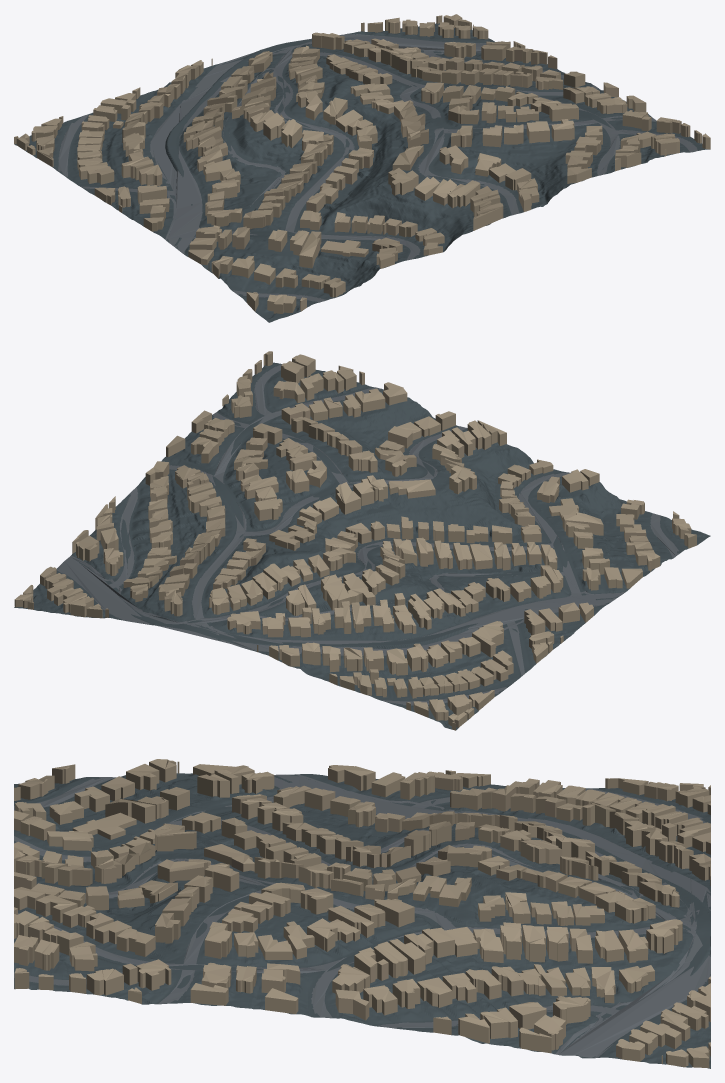
File: epsg26910-1425-10875.lod0.glb
The picture shows the model from 3 angles, top to bottom: view 1: azimuth 30°, elevation 25°; view 2: azimuth 150°, elevation 25°; view 3: azimuth 270°, elevation 25°; orthographic projection. The views are drawn at different scales.
Visible parts, largest first — view 1: epsg26910-1425-10875-lod0; view 2: epsg26910-1425-10875-lod0; view 3: epsg26910-1425-10875-lod0.
Boxes of the visible parts, box(x1,y1,x2,y2) form: epsg26910-1425-10875-lod0: box(14, 14, 710, 322); epsg26910-1425-10875-lod0: box(14, 351, 710, 730); epsg26910-1425-10875-lod0: box(14, 759, 710, 1068).
Bounding box in the file's own units: 384 × 74.43 × 384.
